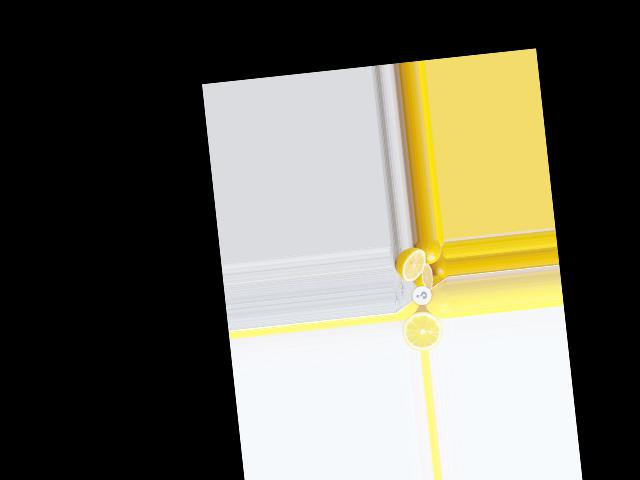lemon: (421, 280, 452, 322)
